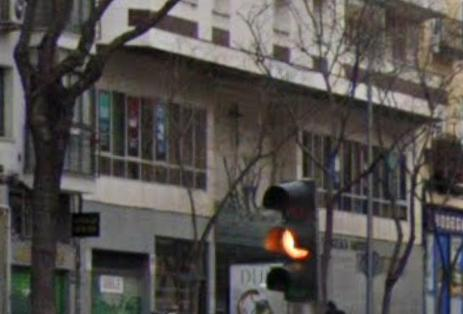yellow_light: (263, 180, 319, 302)
